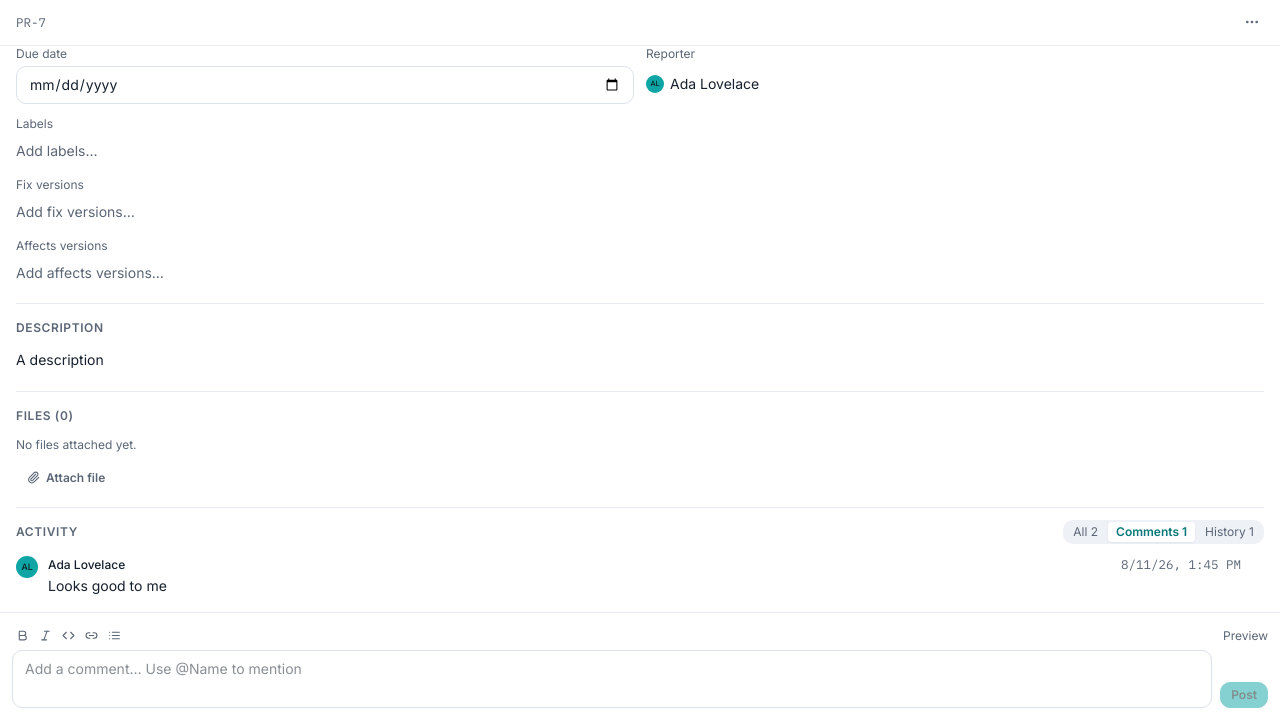
Test: IssueDetail activity feed (HD-69) › shows history only (no comments) under the History filter
(page scrolled)
expect the text "Looks good to me" is shown: met, box [48,577,167,594]
Click the button "history 1" at (1230, 532), box [1197,522,1262,542]
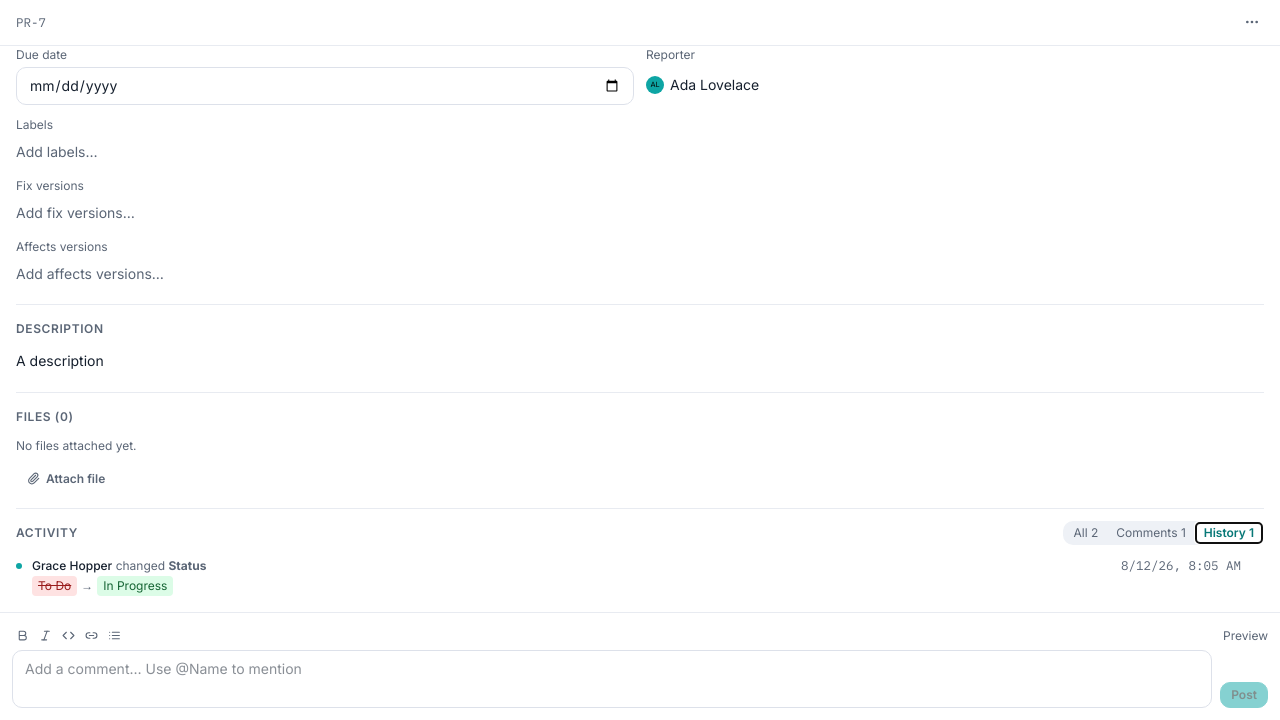
expect the text "Looks good to me" is gone: met
expect the text "Grace Hopper" is shown: met, box [32,558,112,573]
